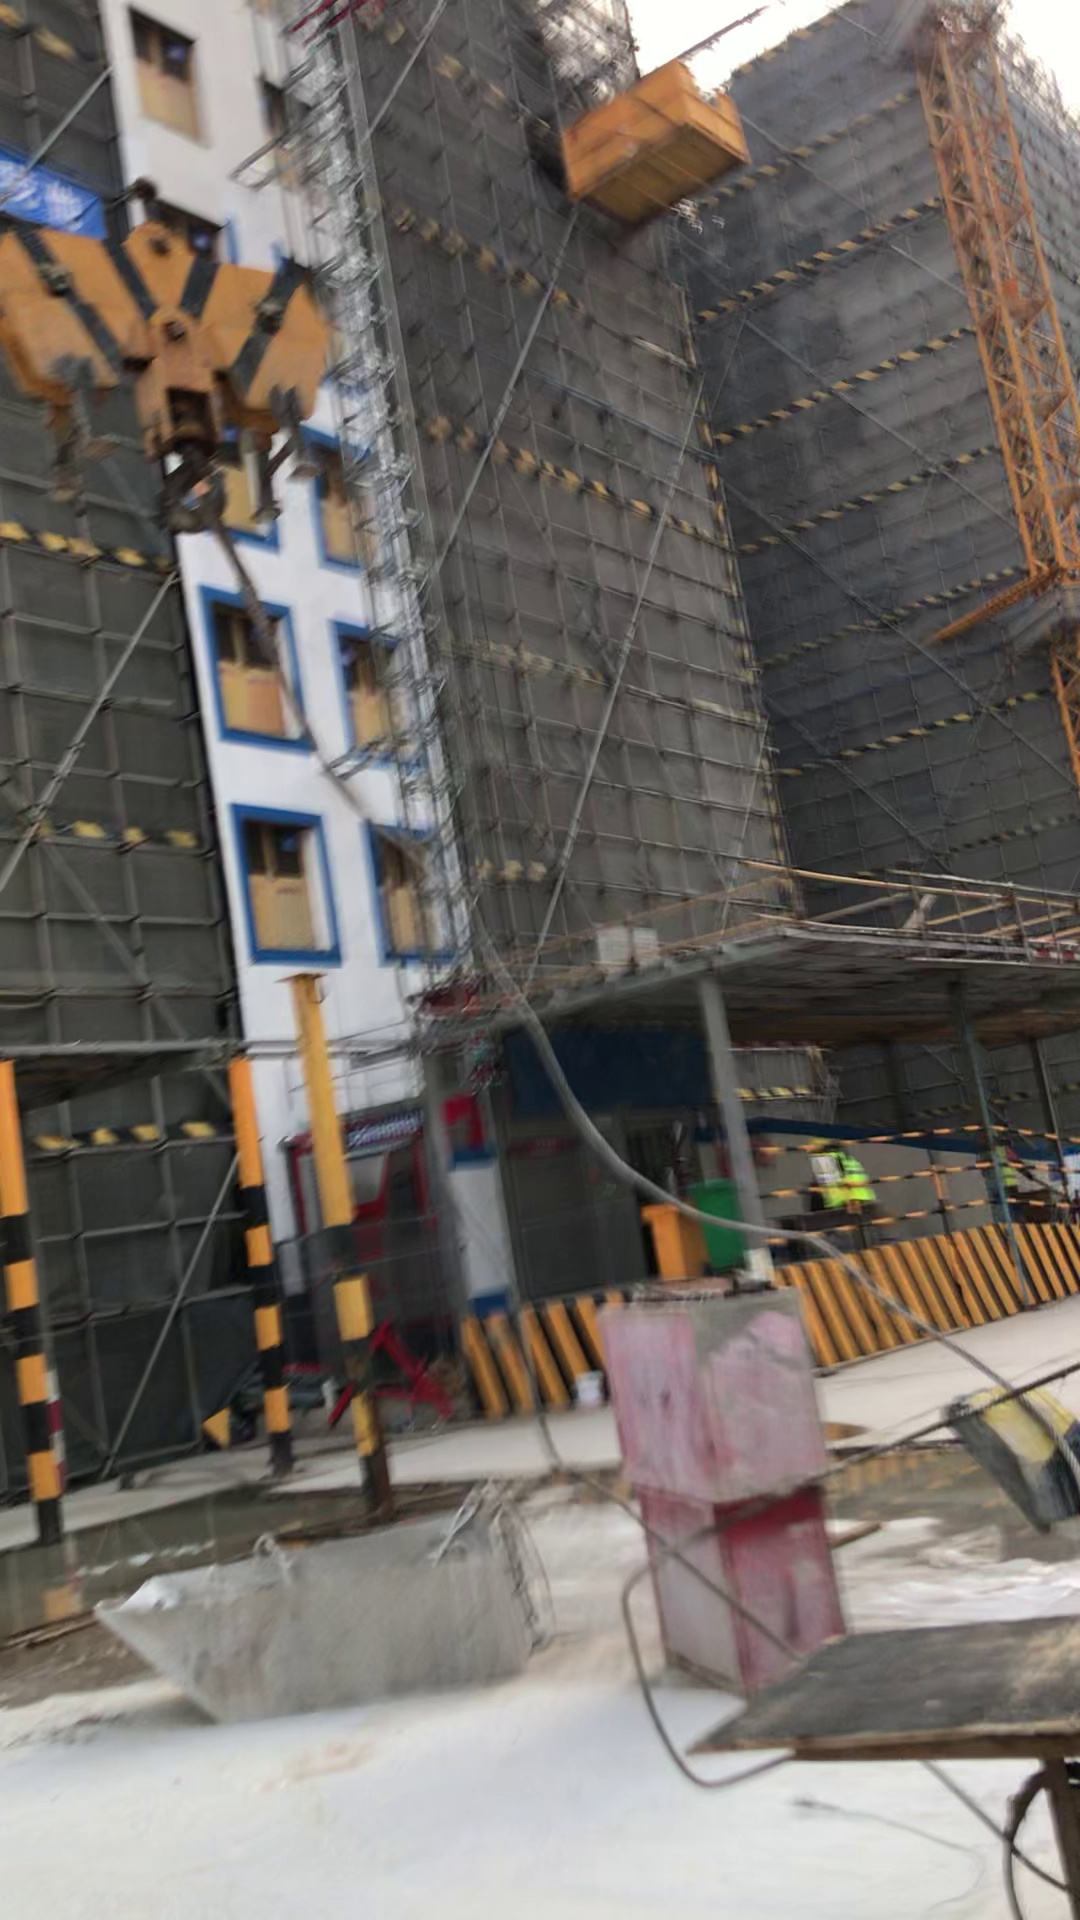hook: (1, 227, 342, 473)
hopper: (94, 1491, 555, 1727)
